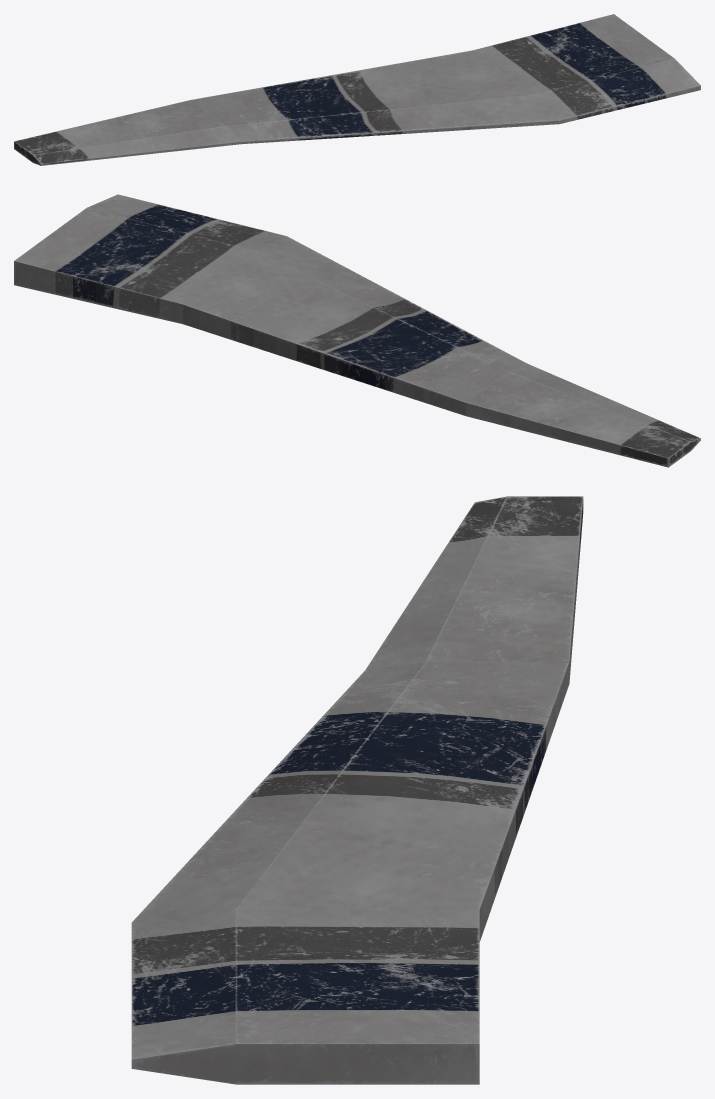
The model's file is wing_l_2.R.fbx.
The picture shows the model from 3 angles, top to bottom: view 1: azimuth 30°, elevation 25°; view 2: azimuth 150°, elevation 25°; view 3: azimuth 270°, elevation 25°; orthographic projection. The views are drawn at different scales.
Parts seen in each view (by area): view 1: wing_l_2.R; view 2: wing_l_2.R; view 3: wing_l_2.R.
Boxes of the visible parts, left/top/right/bottom form: wing_l_2.R: left=14, top=14, right=700, bottom=165; wing_l_2.R: left=14, top=194, right=700, bottom=467; wing_l_2.R: left=131, top=496, right=583, bottom=1084.
Bounding box in the file's own units: 88.58 × 2.99 × 30.19.
